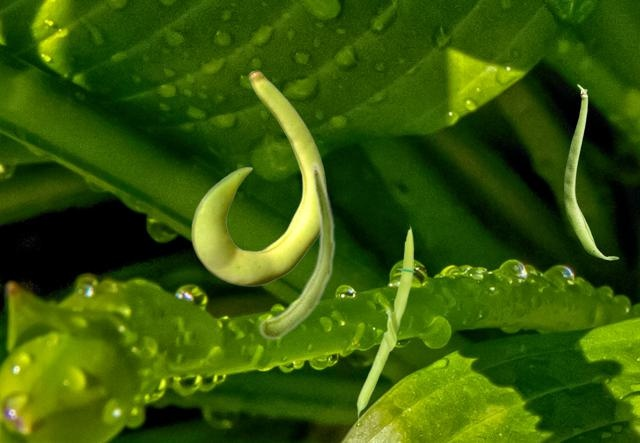french_bean: (191, 70, 326, 285), (258, 160, 335, 339), (354, 224, 415, 434), (564, 84, 618, 259)
